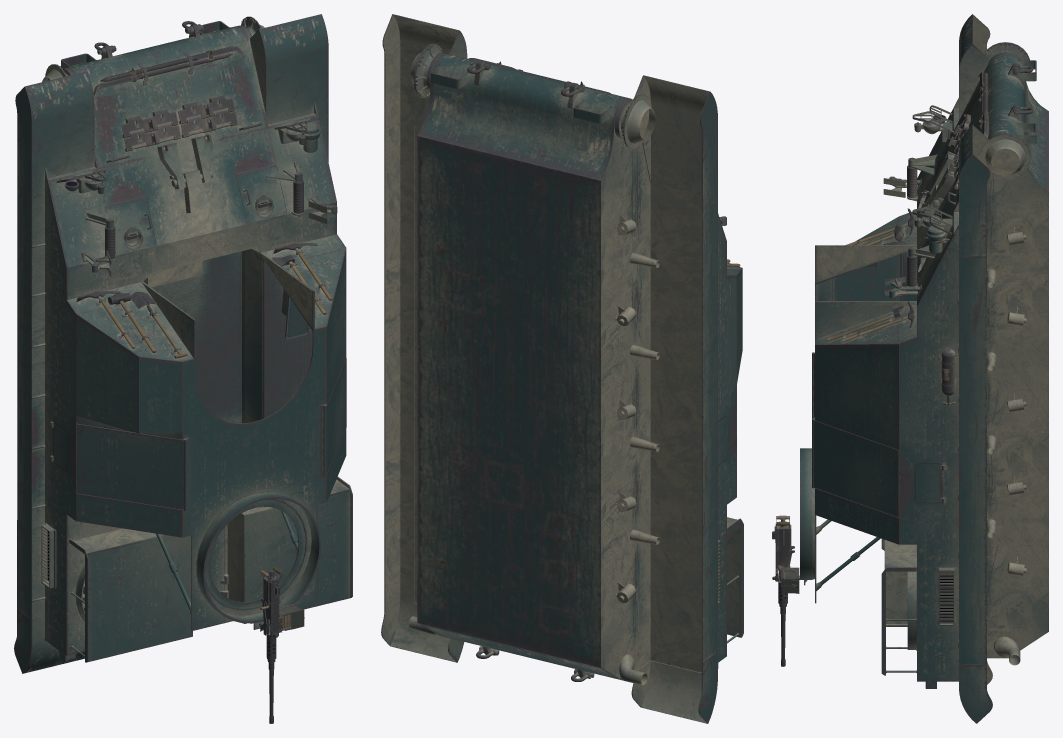
File: Hull.glb
The picture shows the model from 3 angles, left to right: view 1: azimuth 30°, elevation 25°; view 2: azimuth 150°, elevation 25°; view 3: azimuth 270°, elevation 25°; orthographic projection. The views are drawn at different scales.
Parts seen in each view (by area): view 1: set_0_group_0; view 2: set_0_group_0; view 3: set_0_group_0.
Part boxes in pixels (<box>): set_0_group_0: <box>14,14,352,723</box>; set_0_group_0: <box>381,14,743,723</box>; set_0_group_0: <box>772,14,1048,723</box>.
Bounding box in the file's own units: 3.3 × 6.37 × 2.75.
Materials: 1 (1 with a texture image).
